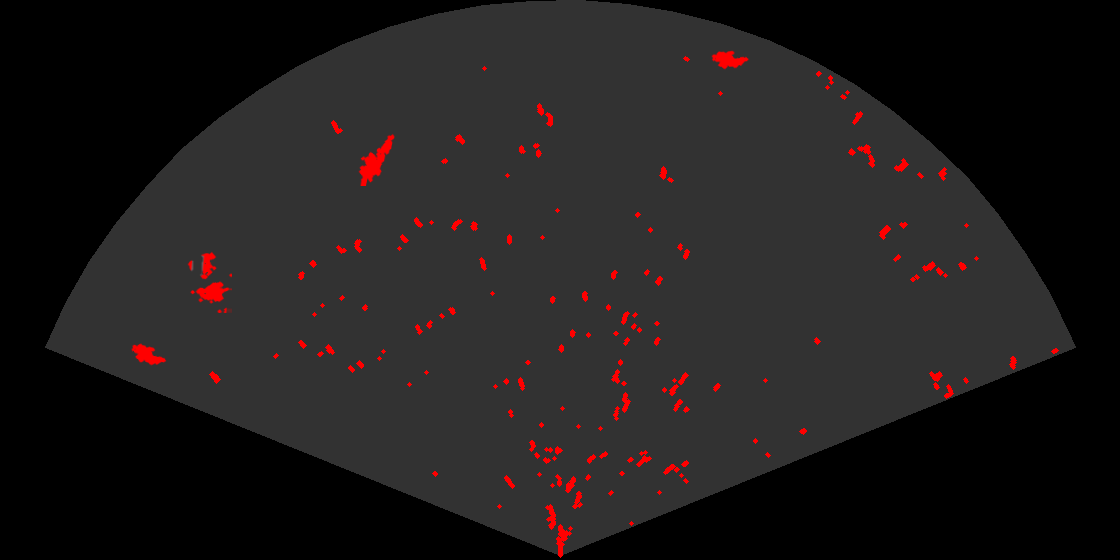AUV: (130, 342, 168, 367), (710, 49, 751, 71)
cage: (186, 250, 232, 313)
frogman: (357, 132, 396, 186)
